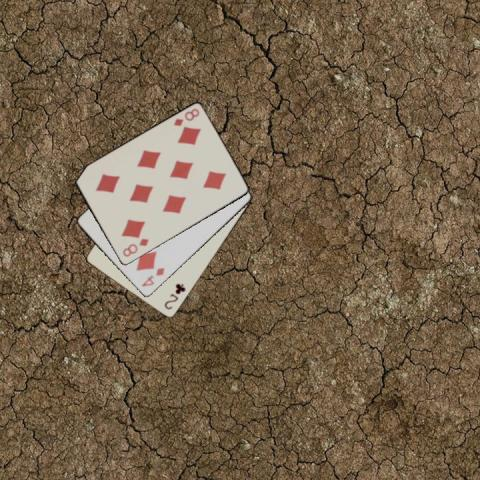2c: (162, 281, 188, 311)
4d: (139, 264, 166, 288)
8d: (119, 235, 150, 259), (170, 105, 200, 128)
